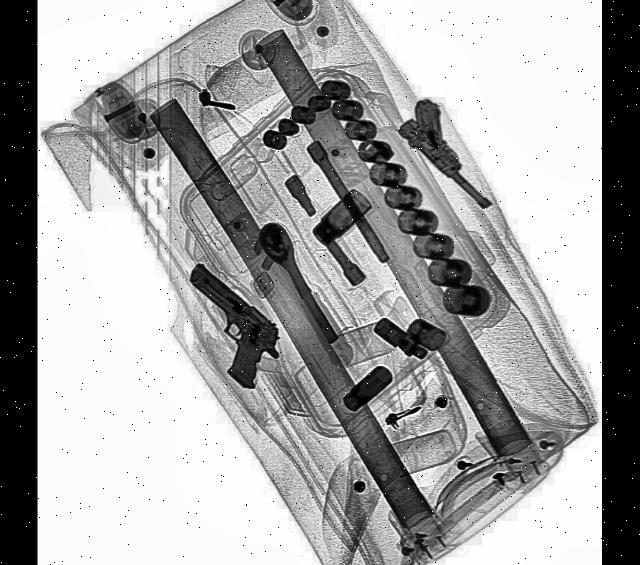Gun: (164, 256, 290, 397), (394, 85, 512, 210)
